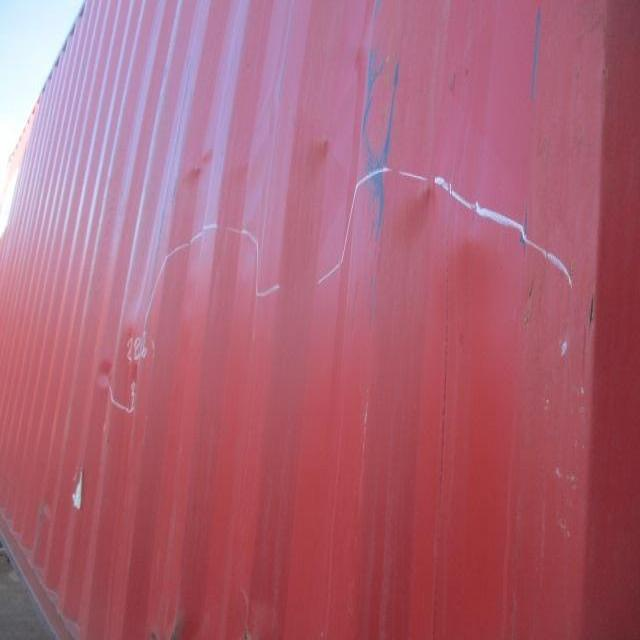Dent: (88, 136, 538, 415)
